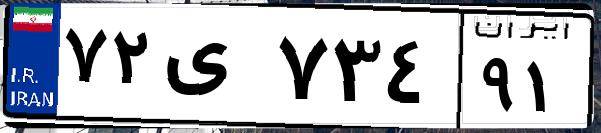1: (525, 38, 570, 115)
2: (110, 28, 158, 98)
3: (330, 28, 385, 110)
4: (385, 28, 445, 110)
7: (270, 28, 330, 110), (57, 26, 110, 100)
9: (475, 38, 525, 113)
ی: (158, 20, 270, 120)
